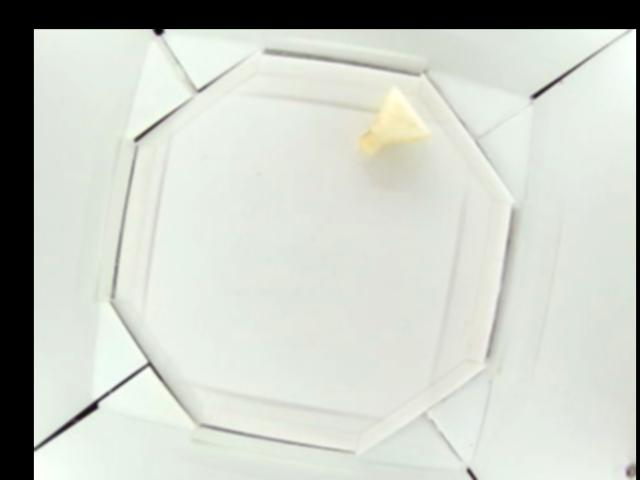Mooli: (358, 87, 430, 154)
